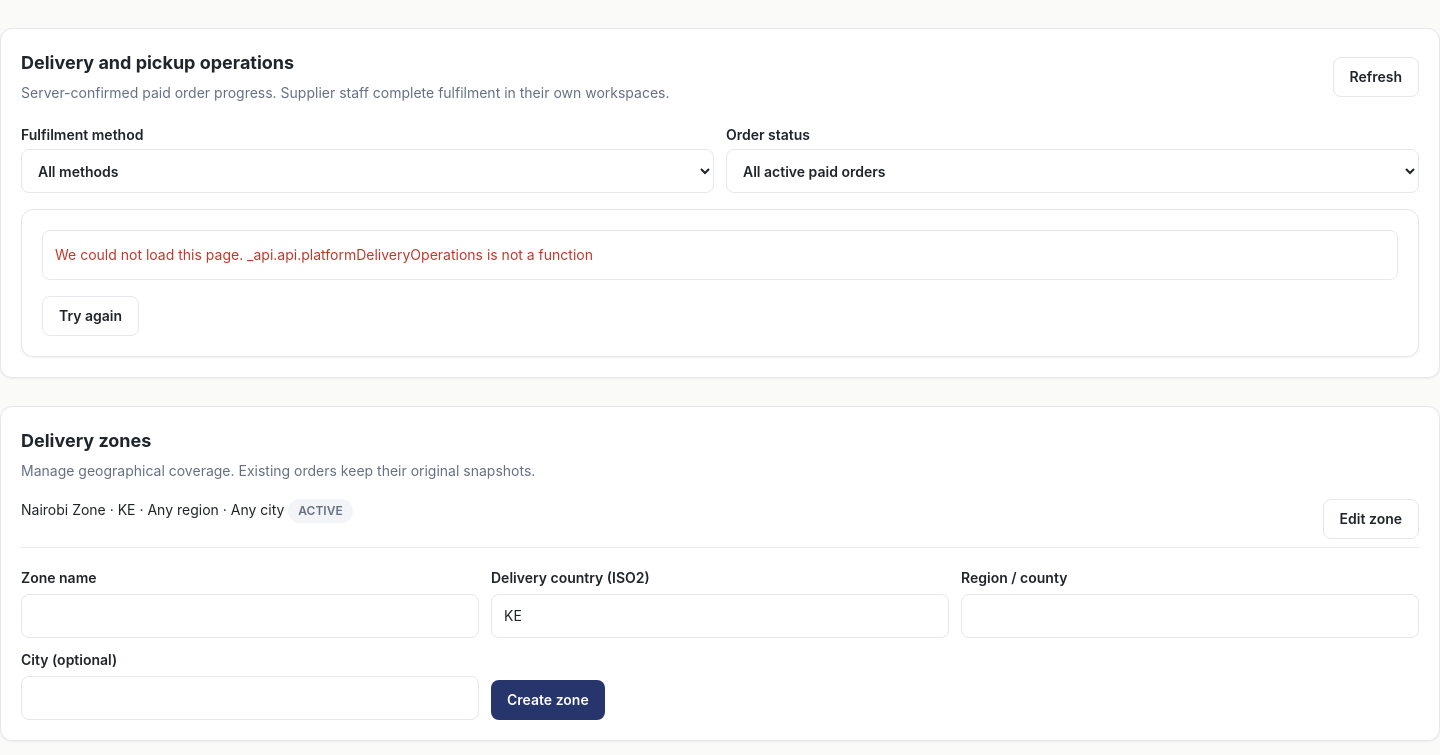
Test: platform pickup and delivery management › does not show saved state on API failure
Expected: the button "Create zone" is shown, top-left (491, 680), bottom-right (605, 720)
Type "Kiambu East" into the field labelled "Zone name" at point(250, 616), box top-left (21, 594), bottom-right (479, 638)
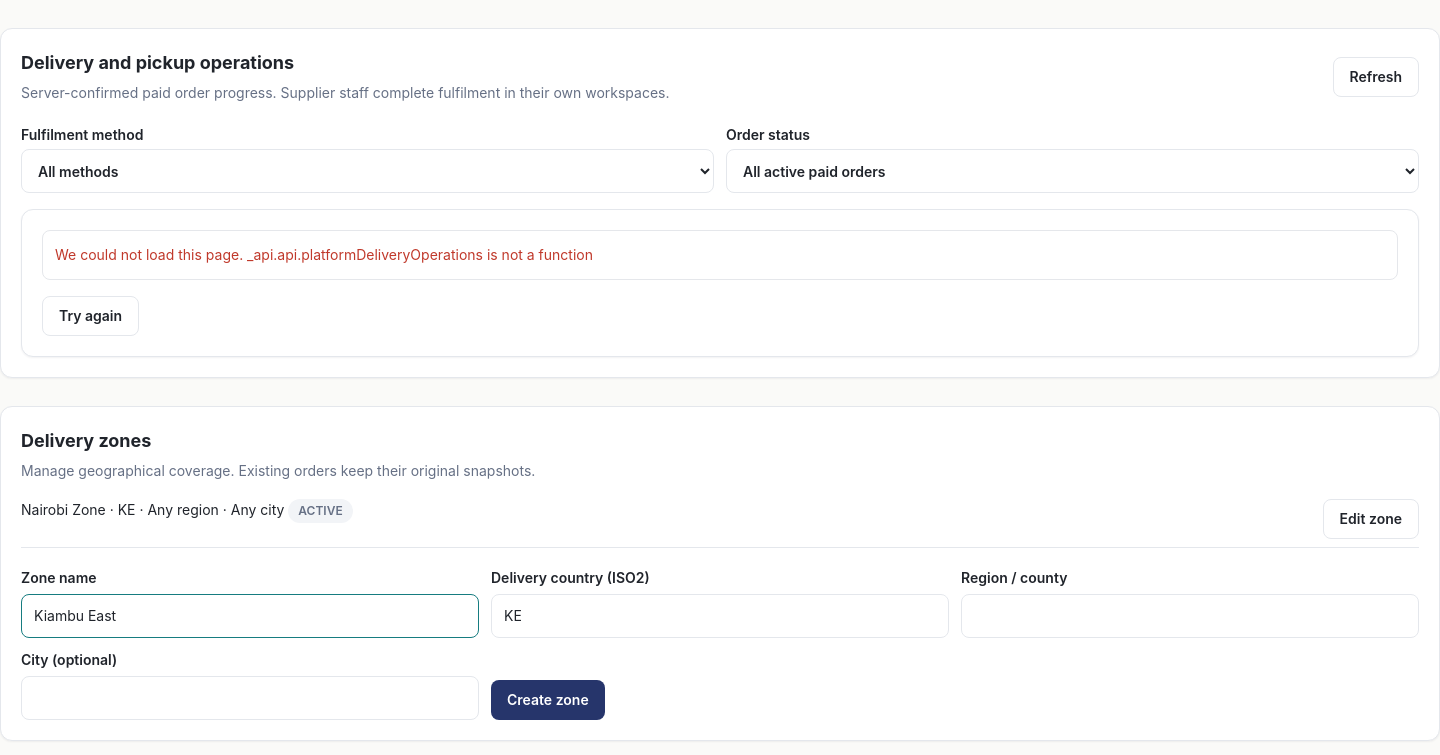
Click the button "Create zone" at point(548, 700), box top-left (491, 680), bottom-right (605, 720)
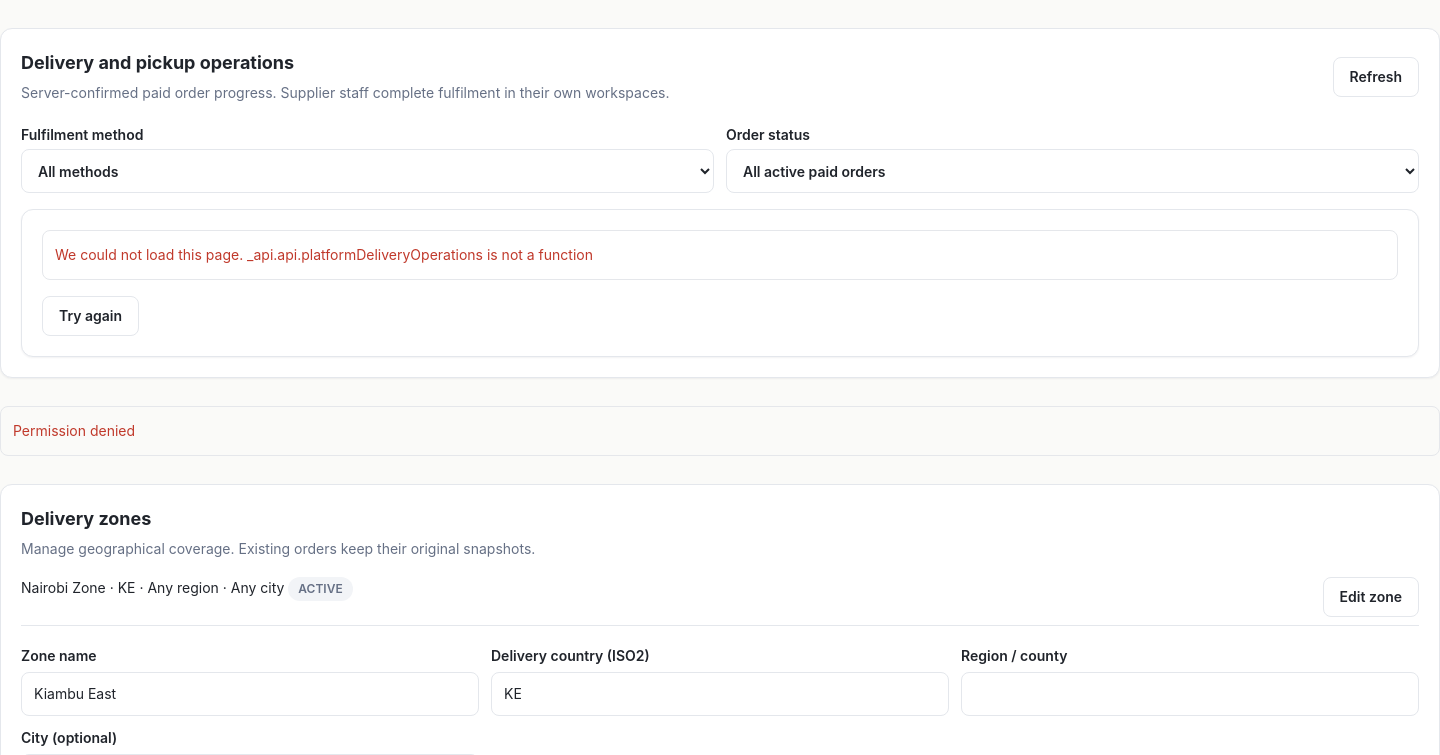
Expected: the text "Permission denied" is shown, top-left (0, 406), bottom-right (1439, 456)
